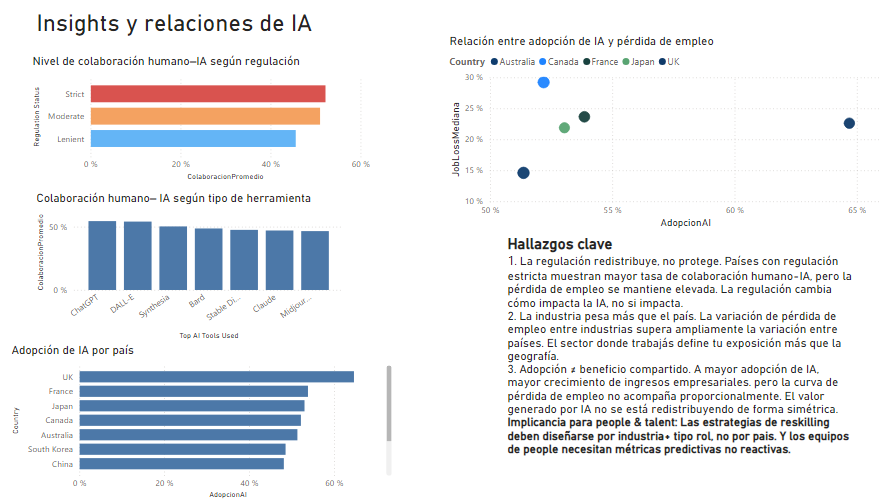

What the dashboard file says about the page in this screenshot:
{"tool":"powerbi","page":{"name":"Insights y relaciones de IA","canvas":[1280,720],"ordinal":2},"visuals":[{"type":"actionButton","box":[0,0,100,40],"z":0},{"type":"textbox","box":[49.4,11.3,673.4,55.1],"z":1000},{"type":"clusteredBarChart","title":"Adopción de IA por país","fields":{"Category":["Global_AI_Content_Impact_Dataset.Country"],"Y":["Global_AI_Content_Impact_Dataset.AdopcionAI"]},"box":[14.1,492.7,553.4,227.3],"z":2000},{"type":"clusteredBarChart","title":"Nivel de colaboración humano–IA según regulación","fields":{"Category":["Global_AI_Content_Impact_Dataset.Regulation Status"],"Y":["Global_AI_Content_Impact_Dataset.ColaboracionPromedio"]},"box":[43.8,80.5,492.7,184.9],"z":3000},{"type":"clusteredColumnChart","title":"Colaboración humano– IA según tipo de herramienta","fields":{"Category":["Global_AI_Content_Impact_Dataset.Top AI Tools Used"],"Y":["Global_AI_Content_Impact_Dataset.ColaboracionPromedio"]},"box":[49.4,275.3,448.9,217.4],"z":4000},{"type":"scatterChart","title":"Relación entre adopción de IA y pérdida de empleo","fields":{"X":["Global_AI_Content_Impact_Dataset.AdopcionAI"],"Size":["Avg(Global_AI_Content_Impact_Dataset.Revenue Increase Due to AI)"],"Y":["Global_AI_Content_Impact_Dataset.JobLossMediana"],"Series":["Global_AI_Content_Impact_Dataset.Country"]},"box":[639.5,50.8,640.9,282.4],"z":5000},{"type":"textbox","box":[722.8,333.2,504,348.7],"z":6000}]}

Visuals, with their boxes in screenshot pixels (x1, y1, x2, y2), scaled from the page's 1280x720 canvas onto the 881x499 screenshot:
actionButton: bbox=(0, 0, 69, 28)
textbox: bbox=(34, 8, 497, 46)
"Adopción de IA por país" clusteredBarChart: bbox=(10, 341, 391, 498)
"Nivel de colaboración humano–IA según regulación" clusteredBarChart: bbox=(30, 56, 369, 184)
"Colaboración humano– IA según tipo de herramienta" clusteredColumnChart: bbox=(34, 191, 343, 341)
"Relación entre adopción de IA y pérdida de empleo" scatterChart: bbox=(440, 35, 880, 231)
textbox: bbox=(497, 231, 844, 473)
